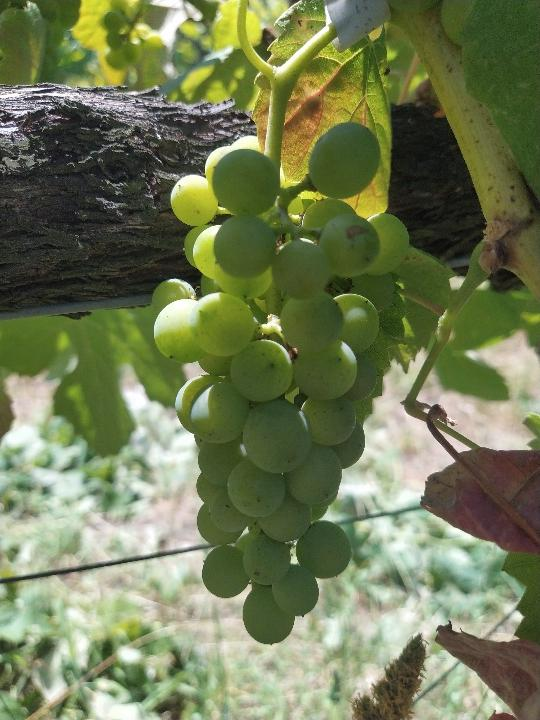grape: (146, 123, 410, 647)
